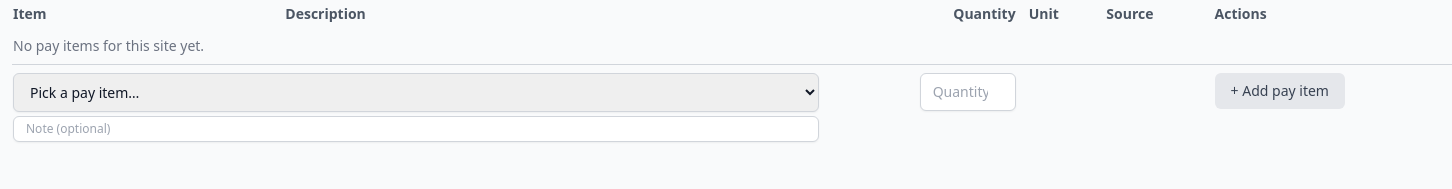
Test: SitePayItemsEditor › adds a pay item with the picker, quantity and note, then says so
Expected: the text "No pay items for this site yet." is shown, [12,28,1451,64]
Select "6.70 AB (HW-200(S)) — Maintenance and protection of traffic" in the dropdown named "Pay item": [416, 92] box [13,73,819,112]
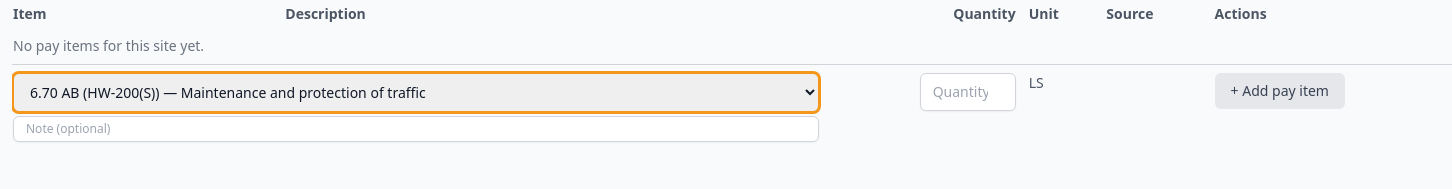
In the number field labelled "Quantity": [968, 92] box [920,73,1016,111], type "12.5"
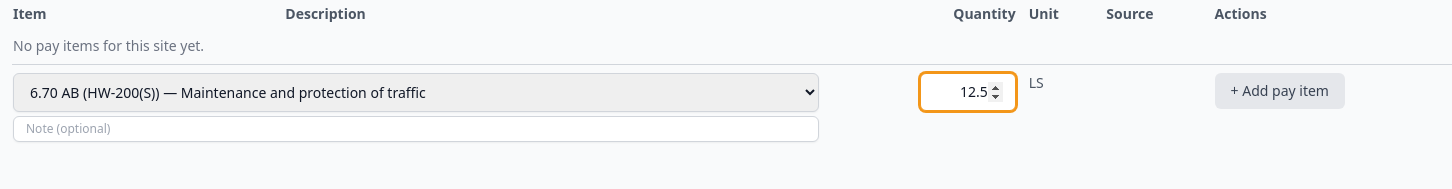
In the field labelled "Note": [416, 129] box [13,116,819,142], type " MTP "
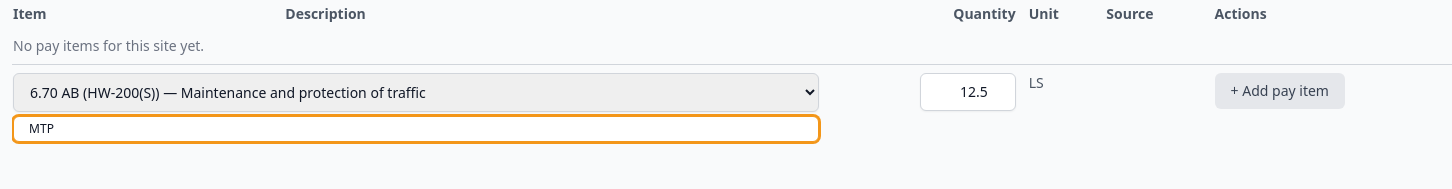
Click the button "+ Add pay item": [1280, 91] box [1215,73,1345,109]
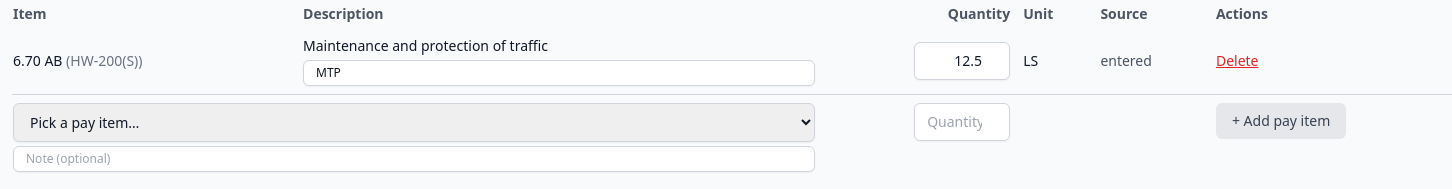
Expected: the number field named "Quantity of 6.70 AB" is shown, [914,42,1010,80]
